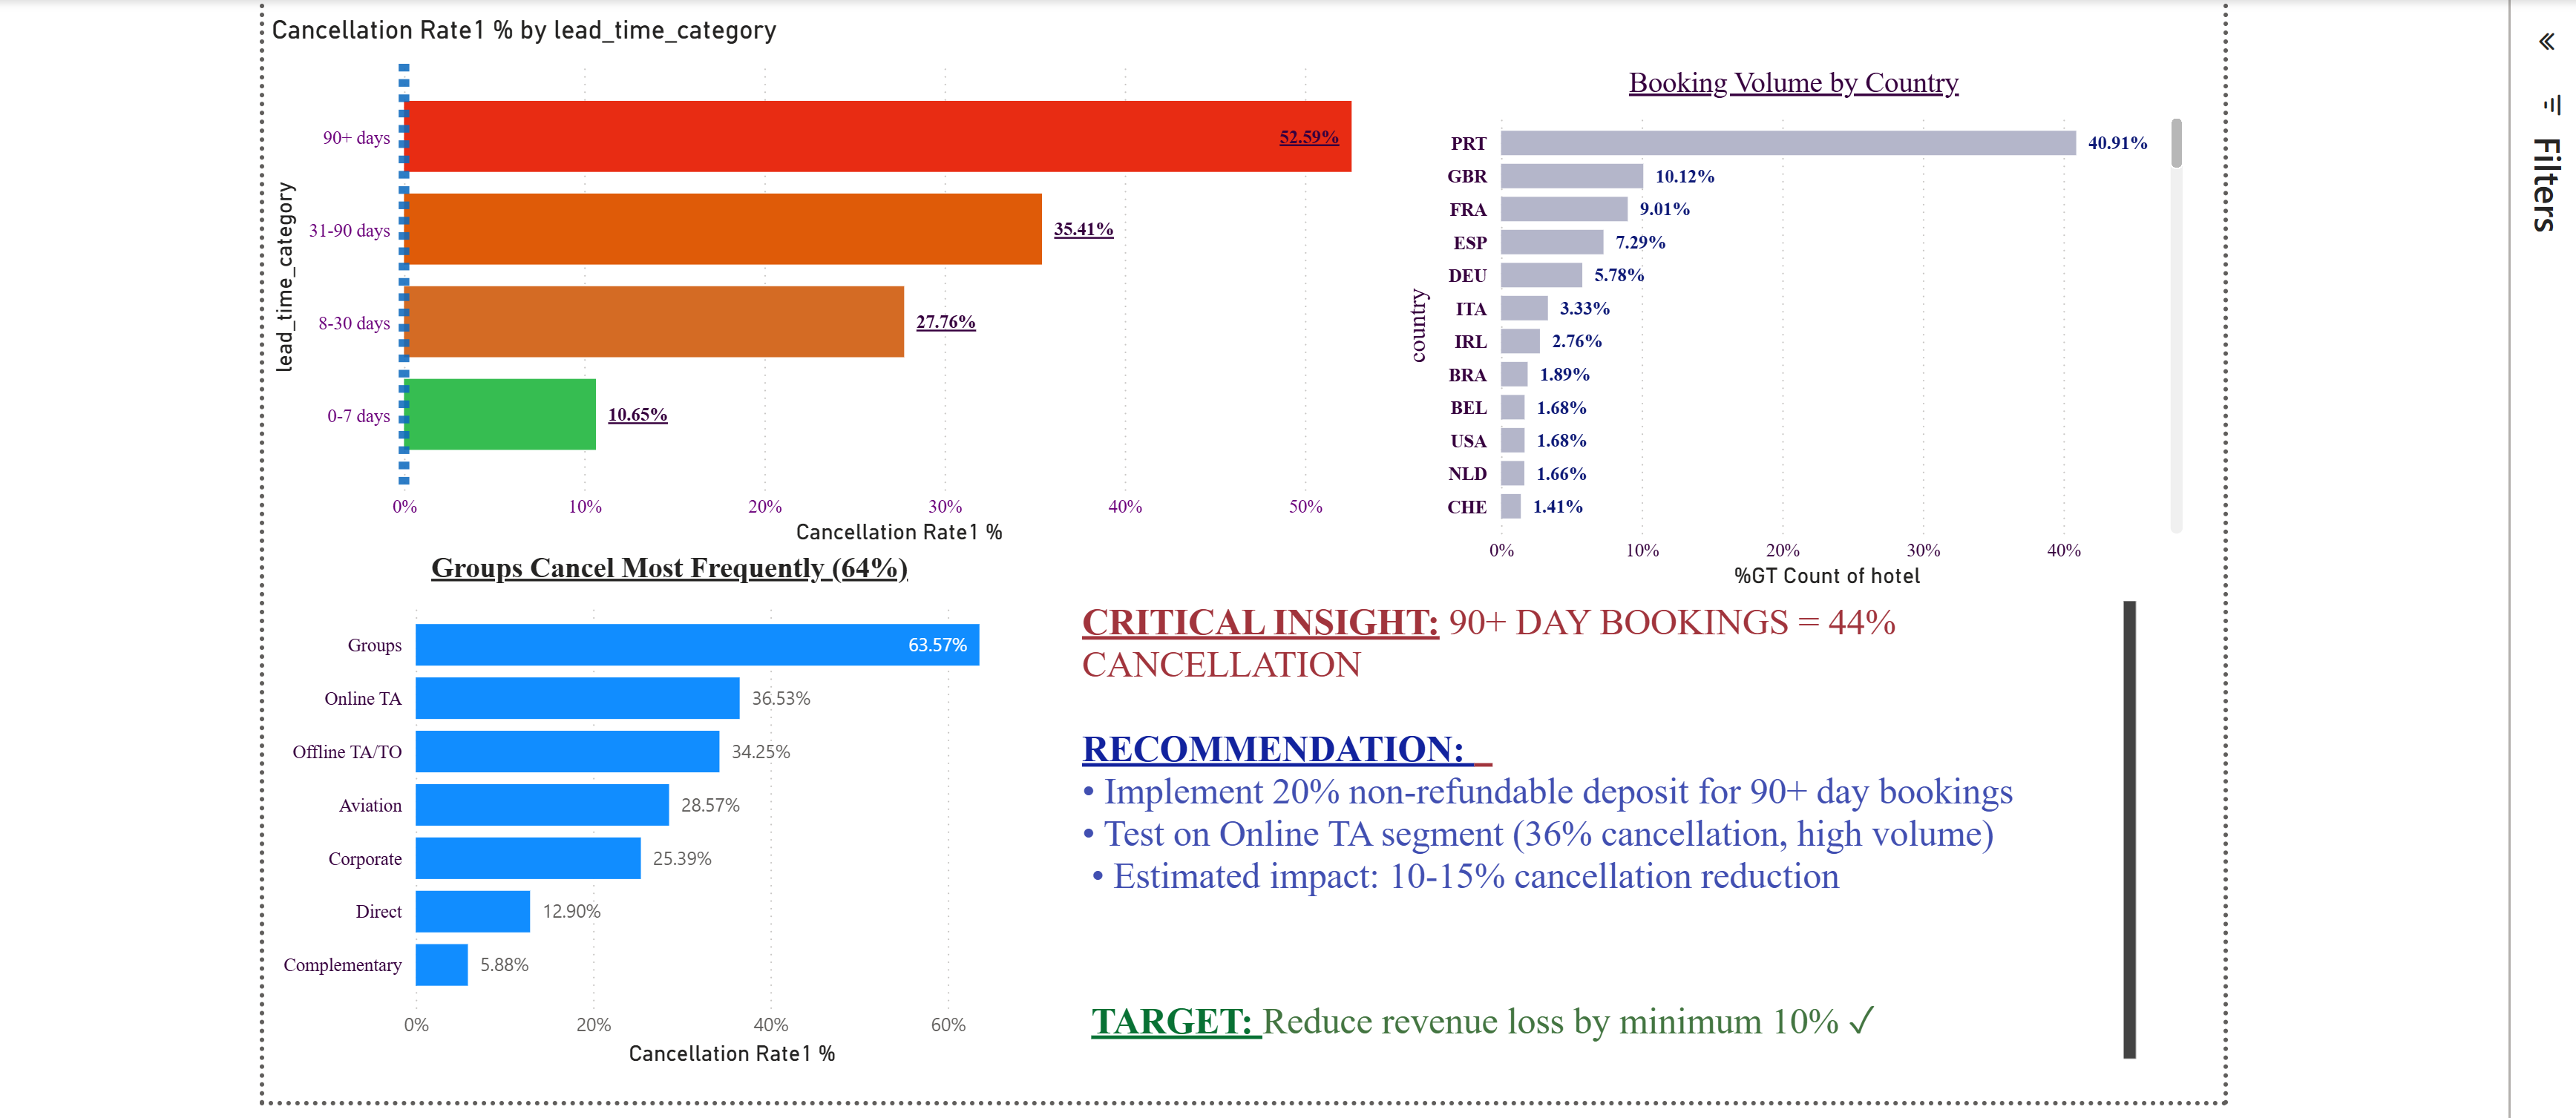

The page's visual inventory and layout, read from the dashboard file:
{"tool":"powerbi","page":{"name":"Cacellations","canvas":[1280,720],"ordinal":1},"visuals":[{"type":"clusteredBarChart","fields":{"Category":["hotel_analysis_enhanced.lead_time_category"],"Y":["hotel_analysis_enhanced.Cancellation Rate1 %"]},"box":[0,9.9,754.8,350.9],"z":0},{"type":"clusteredBarChart","title":"Groups Cancel Most Frequently (64%)","fields":{"Category":["hotel_analysis_enhanced.market_segment"],"Y":["hotel_analysis_enhanced.Cancellation Rate1 %"]},"box":[0,360.8,529.7,341],"z":1000},{"type":"clusteredBarChart","title":"Booking Volume by Country","fields":{"Category":["hotel_analysis_enhanced.country"],"Y":["CountNonNull(hotel_analysis_enhanced.hotel)"]},"box":[739.9,43,518.1,345.9],"z":2000},{"type":"textbox","box":[529.7,389,698.5,312.8],"z":3000}]}

Visuals, with their boxes on the page's 1280x720 design canvas (x1, y1, x2, y2). These are canvas units, not pixel positions in the 2576x1118 screenshot, which may show the page scaled, cropped or inside an application window:
clusteredBarChart - hotel_analysis_enhanced.lead_time_category x hotel_analysis_enhanced.Cancellation Rate1 %: [0,10,755,361]
"Groups Cancel Most Frequently (64%)" clusteredBarChart: [0,361,530,702]
"Booking Volume by Country" clusteredBarChart: [740,43,1258,389]
textbox: [530,389,1228,702]
